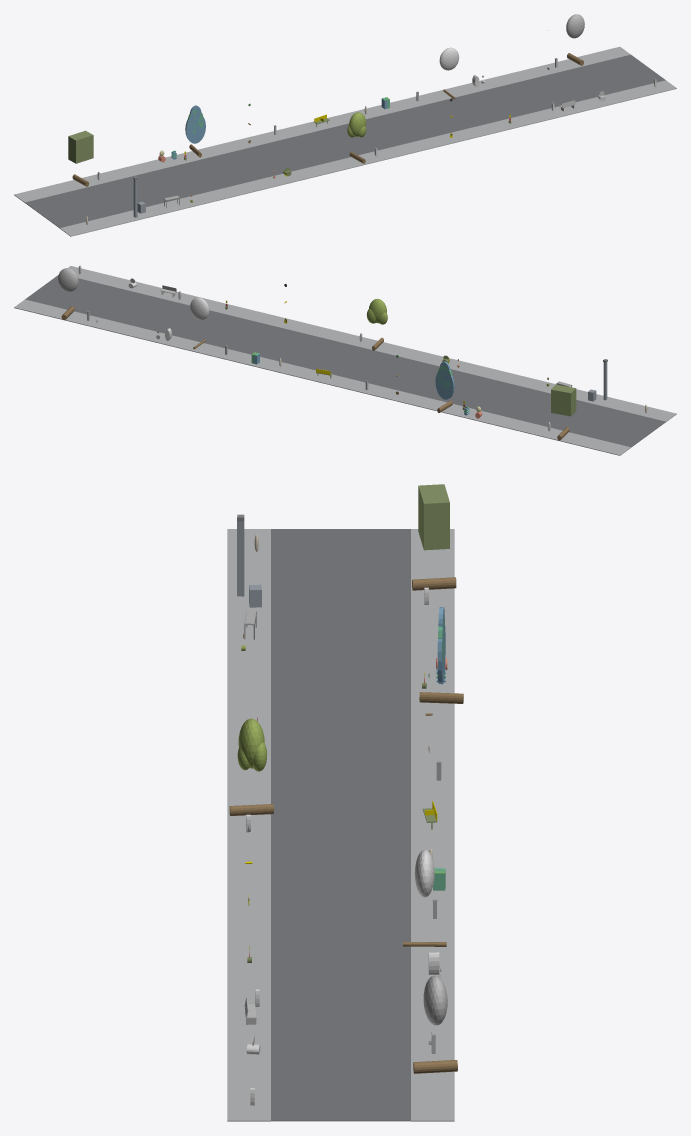
3 renders of one model, top to bottom at view 1: azimuth 30°, elevation 25°; view 2: azimuth 150°, elevation 25°; view 3: azimuth 270°, elevation 25°, orthographic. The views are drawn at different scales.
Visible parts, largest first — view 1: road_slab, sidewalk_left, sidewalk_right, inst_0012, inst_0013, inst_0014, inst_0016, inst_0015; view 2: road_slab, sidewalk_right, sidewalk_left, inst_0012, inst_0013, inst_0014, inst_0016, inst_0015; view 3: road_slab, sidewalk_left, sidewalk_right, inst_0012, inst_0014, inst_0016, inst_0013, inst_0015.
Part boxes in pixels (x1,y1,x2,y2): road_slab: (25, 54, 665, 228); sidewalk_left: (60, 80, 676, 236); sidewalk_right: (14, 46, 630, 202); inst_0012: (68, 130, 93, 186); inst_0013: (185, 105, 205, 157); inst_0014: (347, 112, 366, 163); inst_0016: (566, 14, 584, 65); inst_0015: (439, 47, 459, 99); road_slab: (25, 275, 665, 447); sidewalk_right: (14, 299, 630, 455); sidewalk_left: (68, 266, 676, 421); inst_0012: (551, 384, 576, 440); inst_0013: (435, 361, 454, 412); inst_0014: (366, 298, 387, 350); inst_0016: (58, 268, 78, 320); inst_0015: (190, 297, 209, 349); road_slab: (271, 529, 410, 1121); sidewalk_left: (227, 529, 270, 1121); sidewalk_right: (411, 529, 454, 1121); inst_0012: (412, 484, 456, 590); inst_0014: (229, 718, 273, 815); inst_0016: (413, 975, 457, 1073); inst_0013: (419, 607, 463, 703); inst_0015: (403, 850, 446, 946).
Size of the model in its own units: 80 by 6.08 by 13.51.
